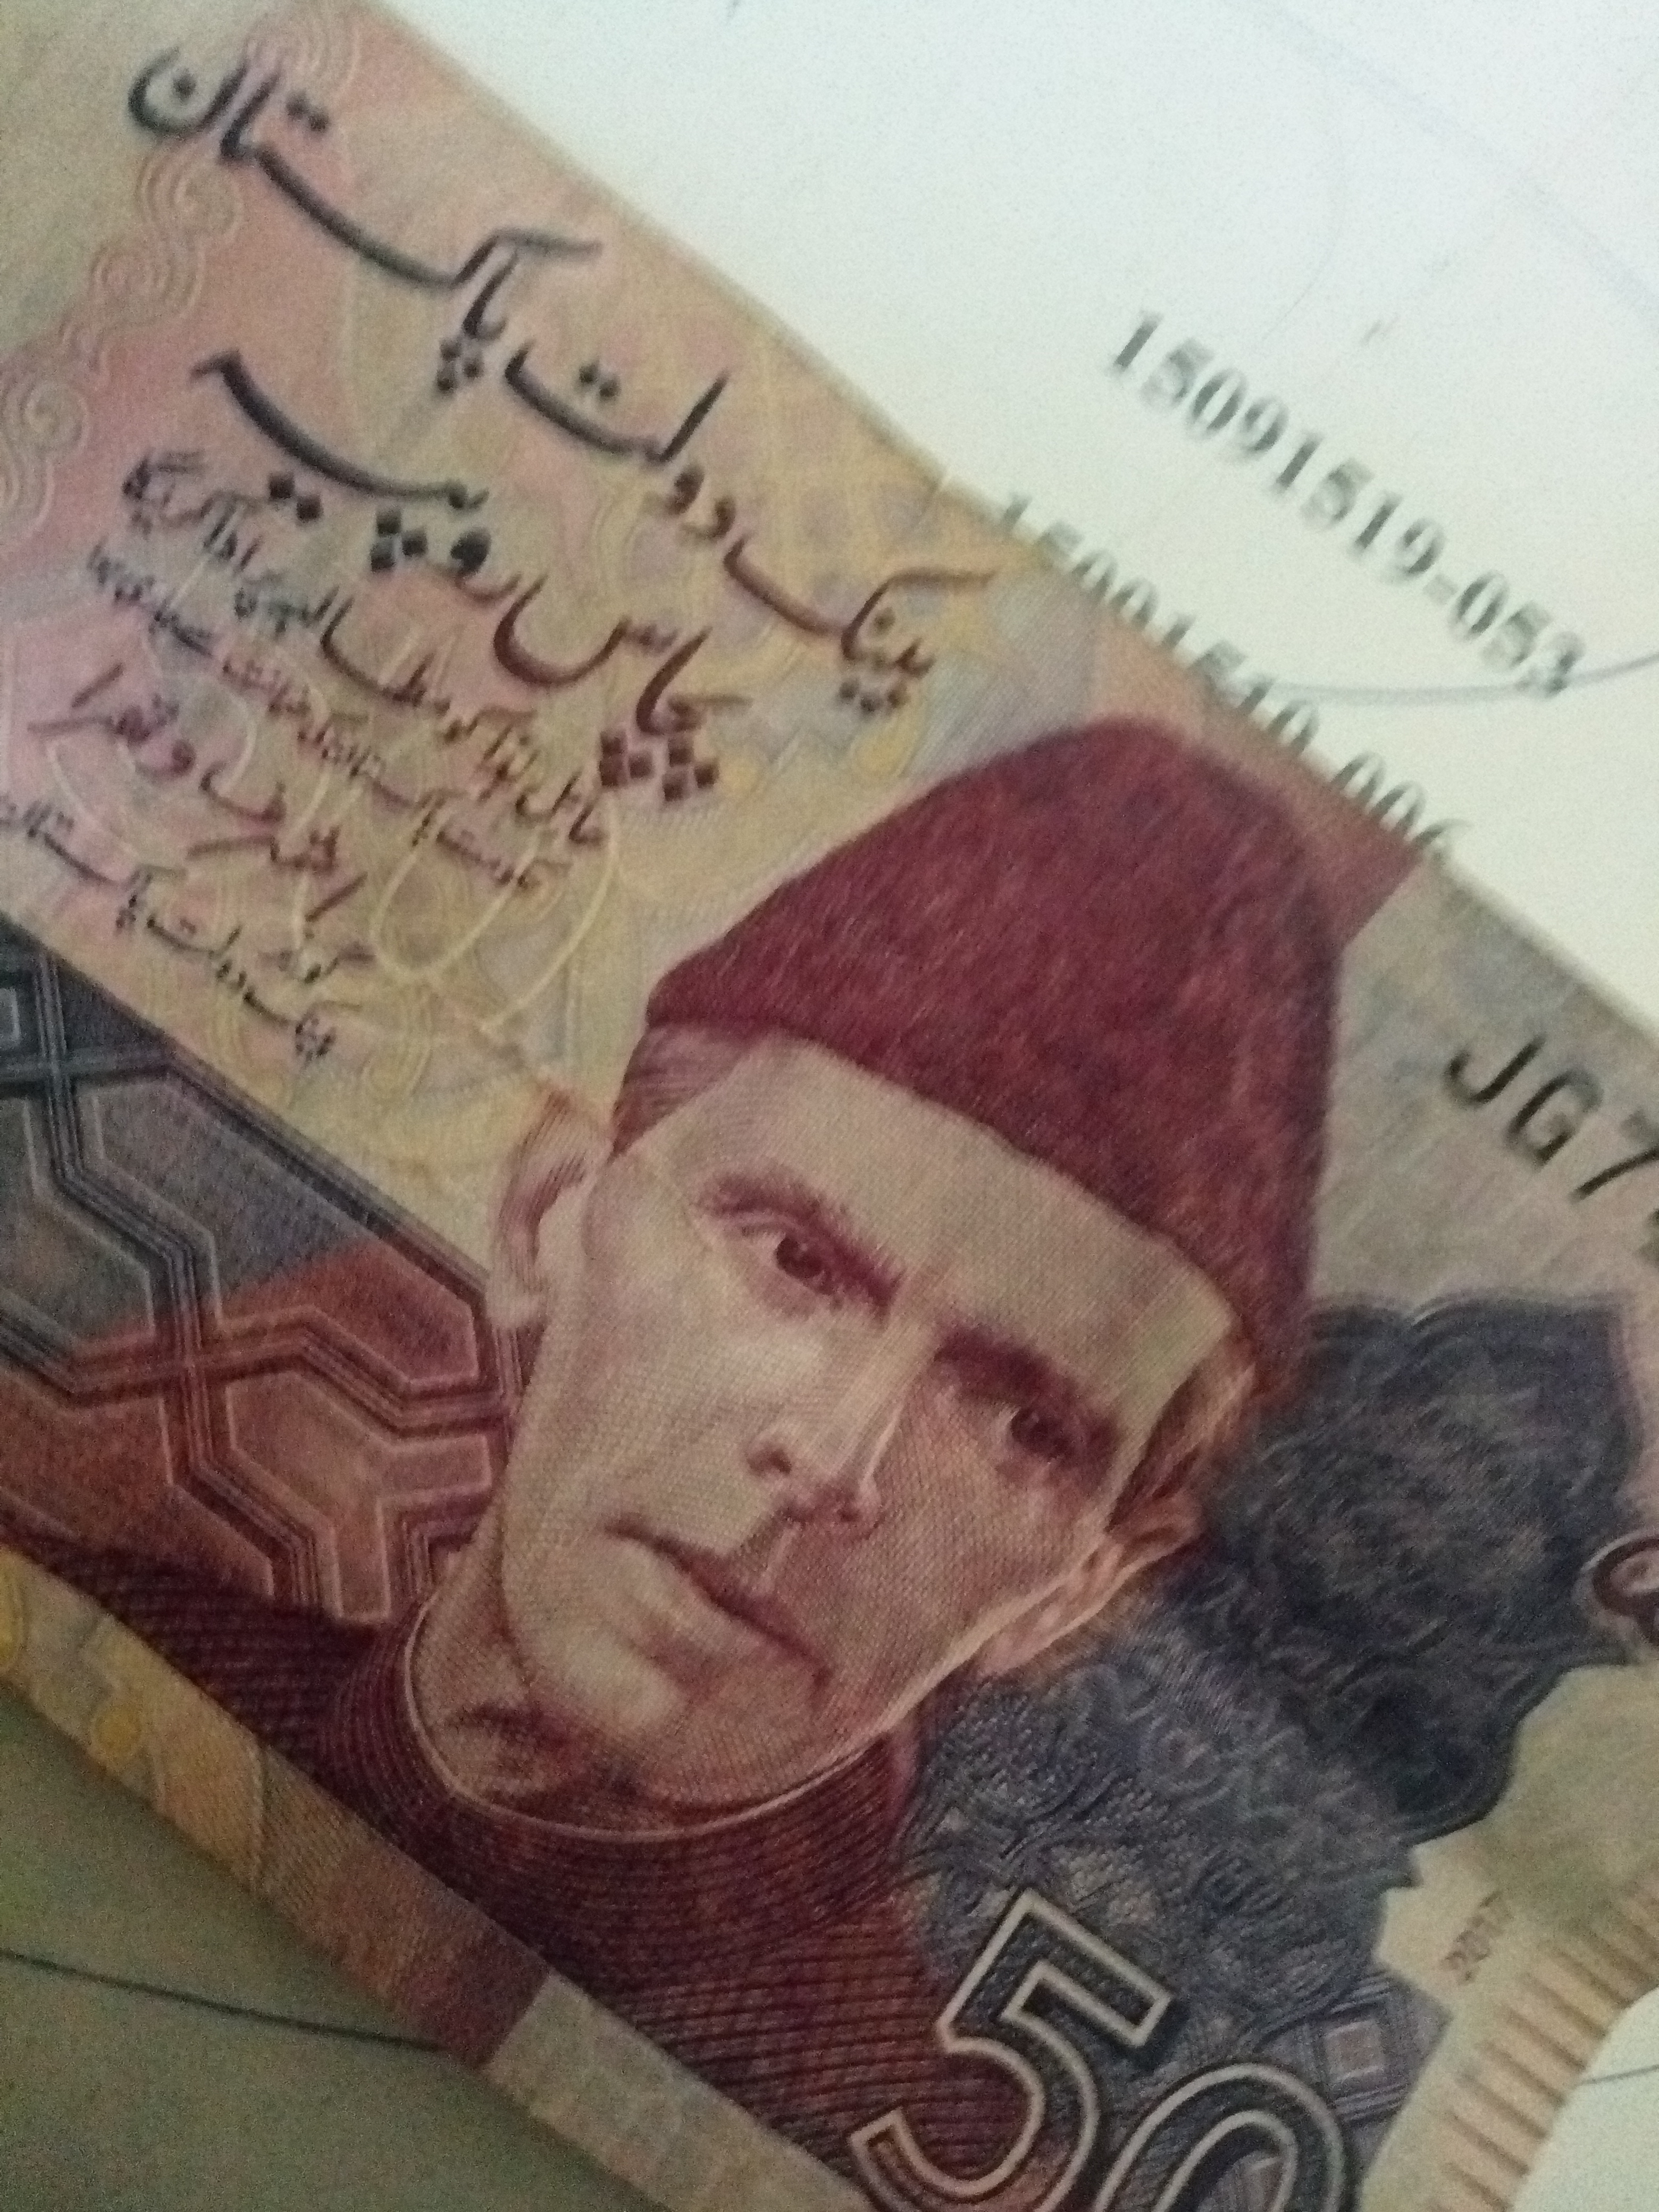50 rupee: (49, 42, 1629, 2193)
